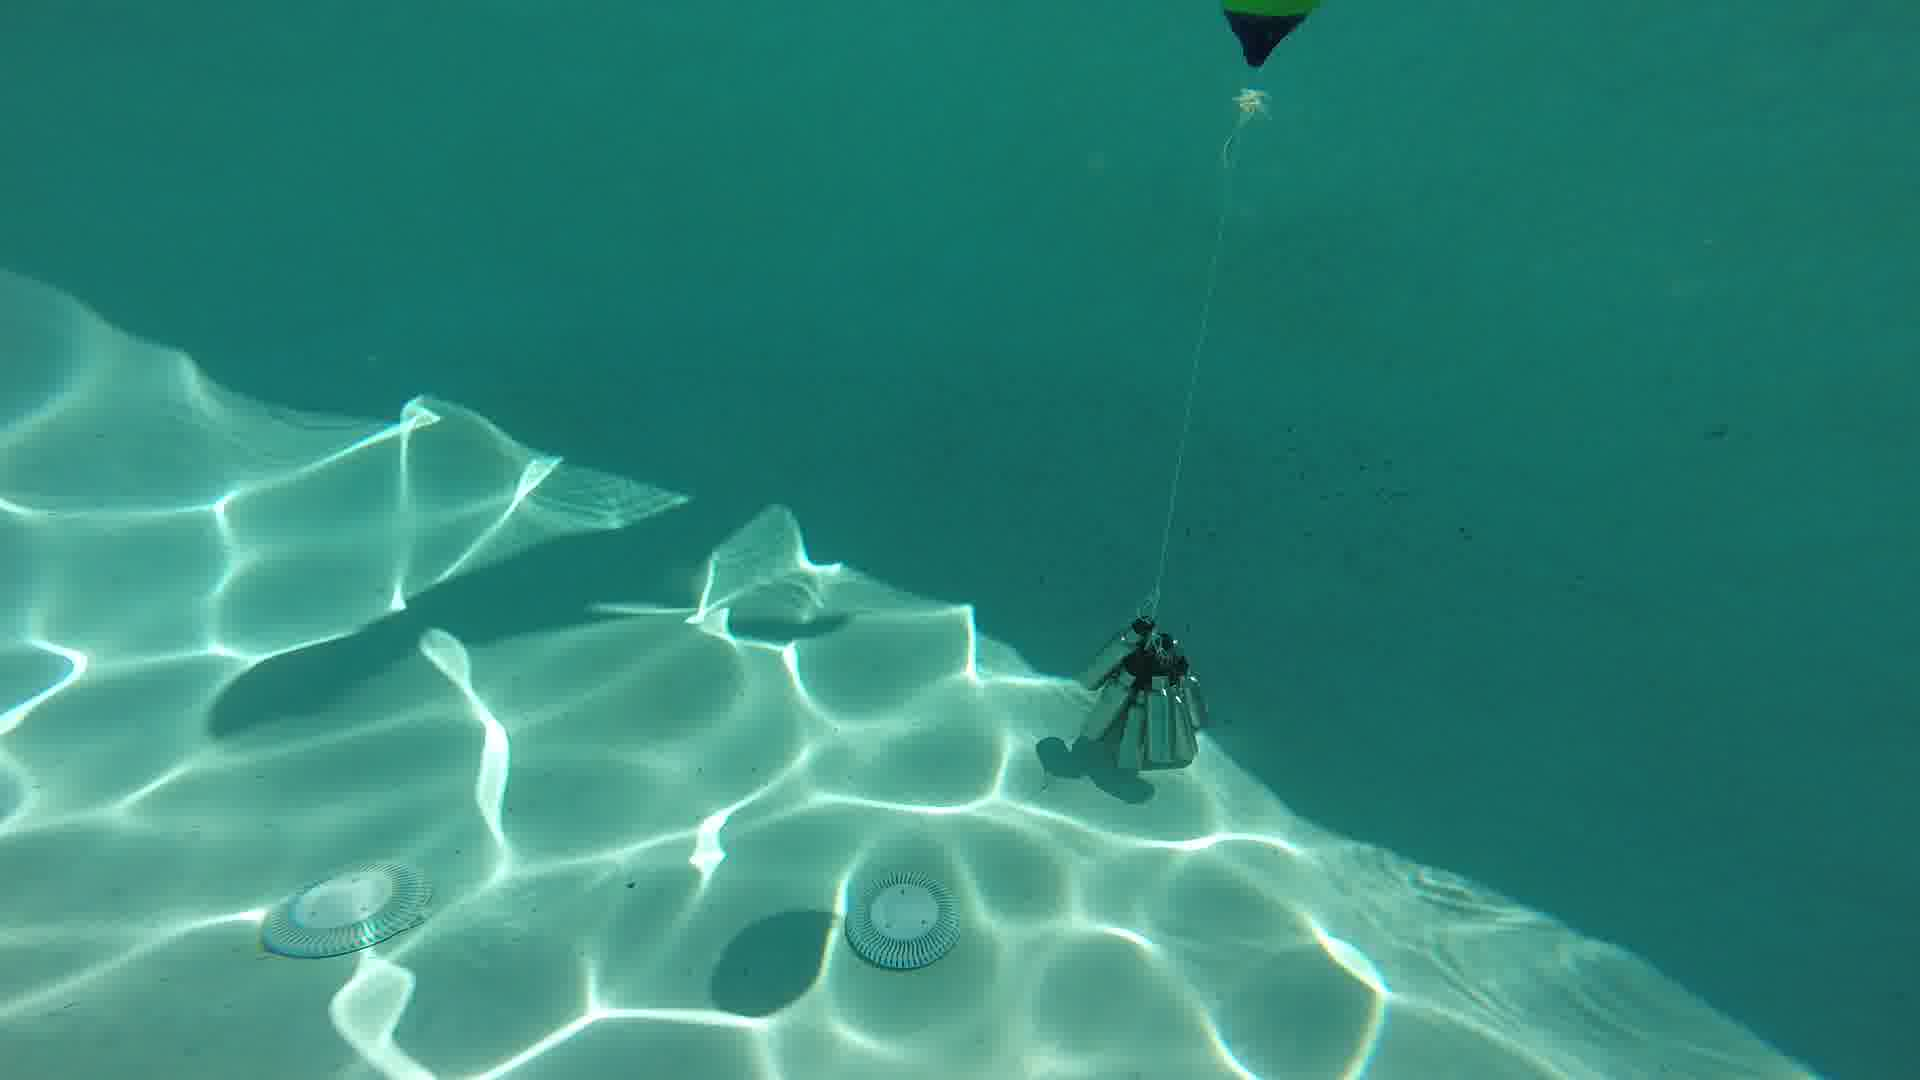yellow_buoy: (1221, 1, 1319, 124)
